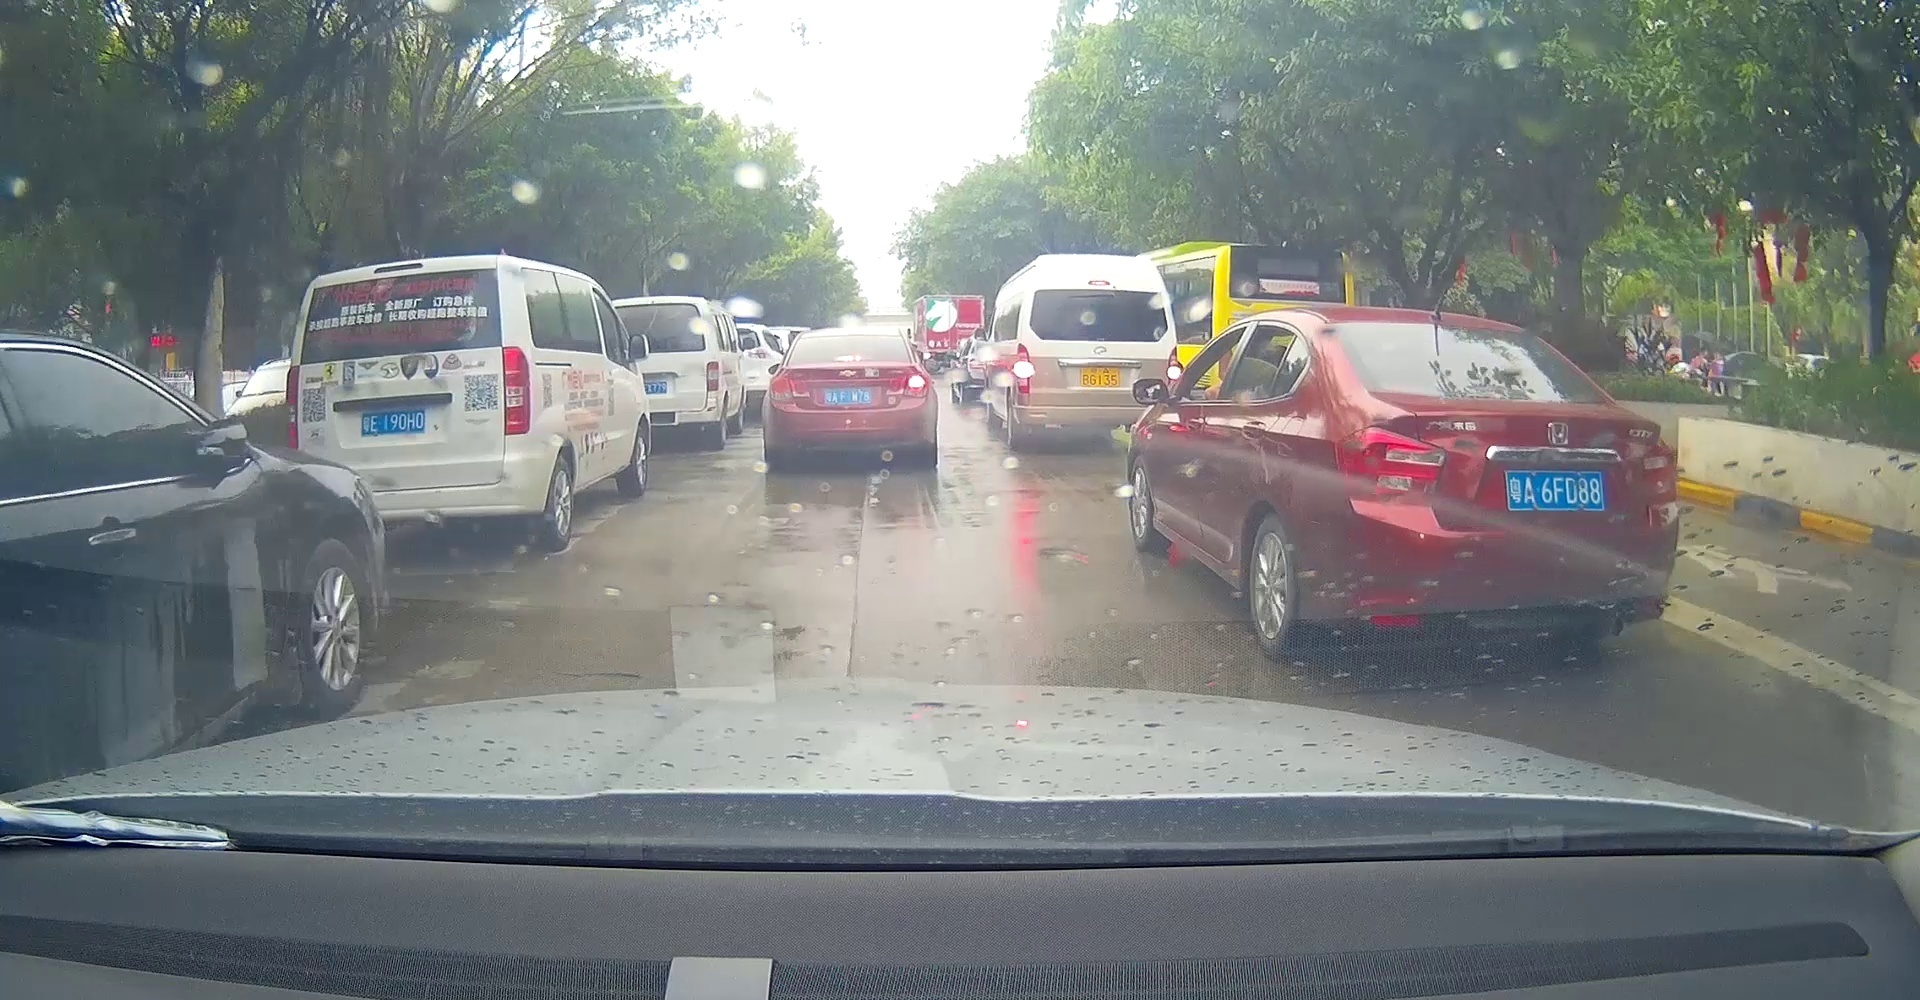day-no: (1330, 306, 1679, 662), (286, 255, 533, 553), (1015, 253, 1178, 452), (761, 326, 938, 464), (1336, 426, 1448, 496), (1505, 470, 1605, 511), (502, 345, 532, 437), (1630, 443, 1677, 495), (361, 409, 427, 437), (287, 365, 301, 451), (885, 376, 928, 397), (1081, 365, 1120, 388), (1015, 344, 1031, 393), (771, 378, 810, 398), (1467, 386, 1528, 398), (375, 263, 424, 274), (1167, 346, 1178, 387), (834, 354, 863, 363), (1084, 291, 1116, 298)
